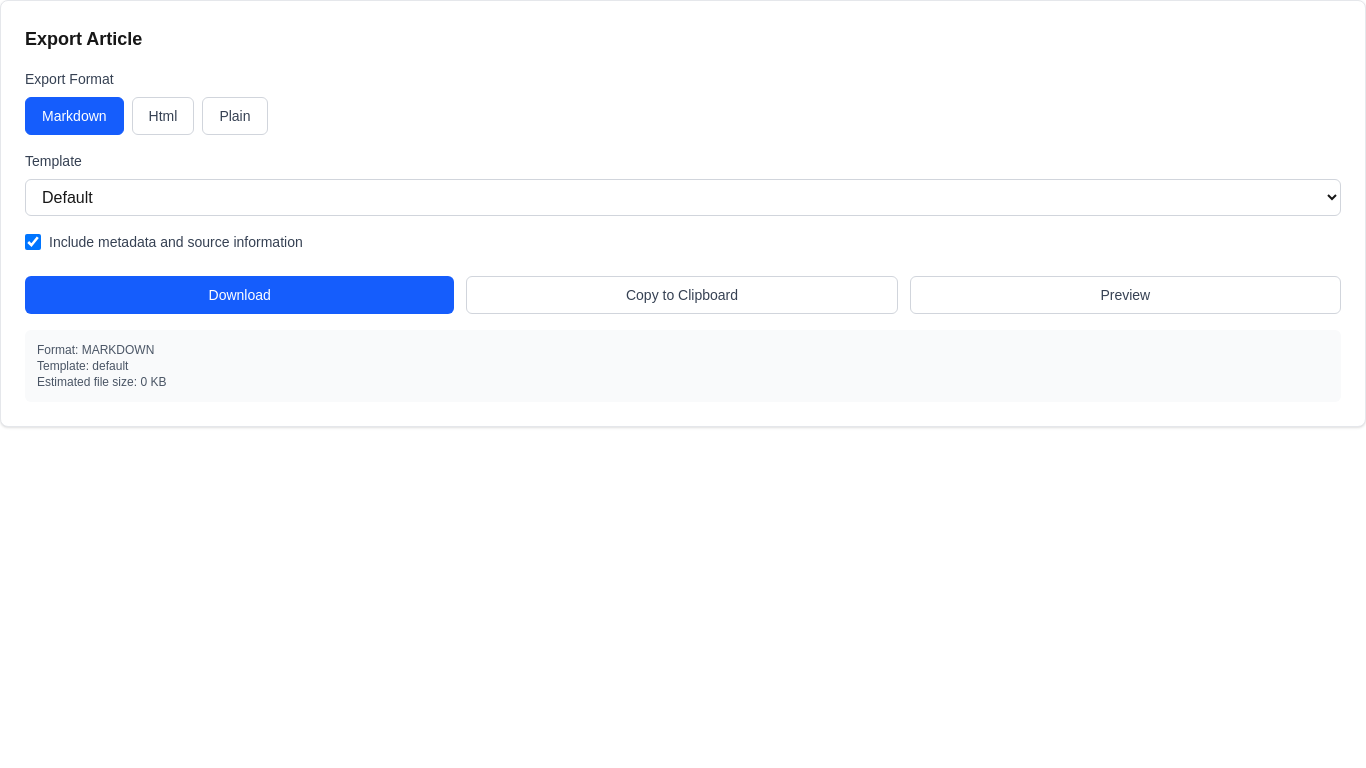
it: ExportOptions › should show preview when preview button is clicked
This screenshot has width=1366, height=768.
What coordinates should you click on to do the following:
click the button "Preview"
I would click on:
 (1125, 295)
Its box is [910,276,1341,314].
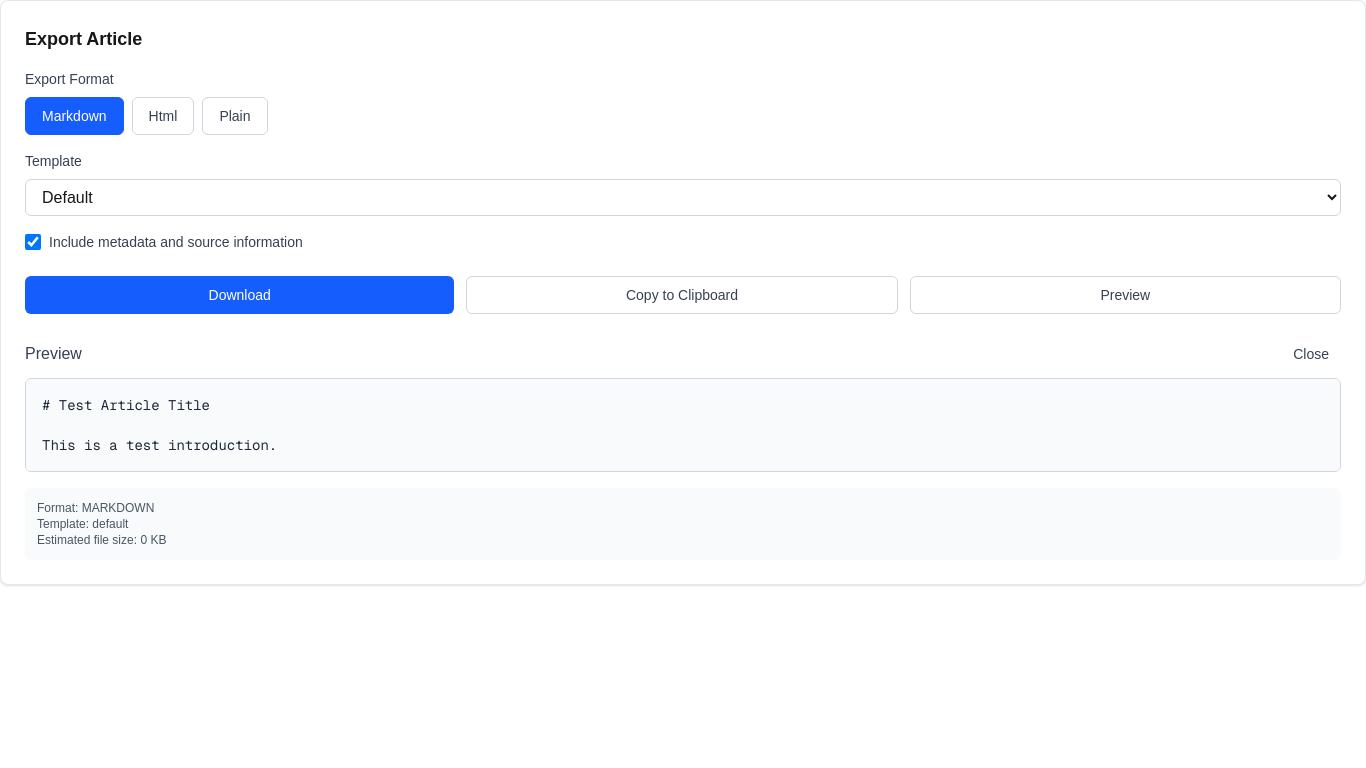
Expected: the button "Close" is shown, [1281,338,1341,370]
